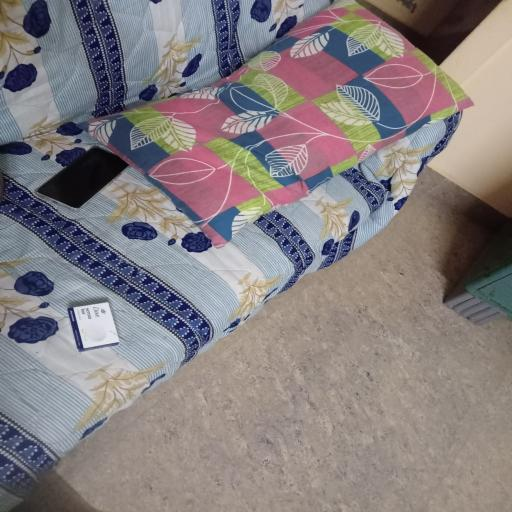Dove`1: (64, 303, 118, 352)
